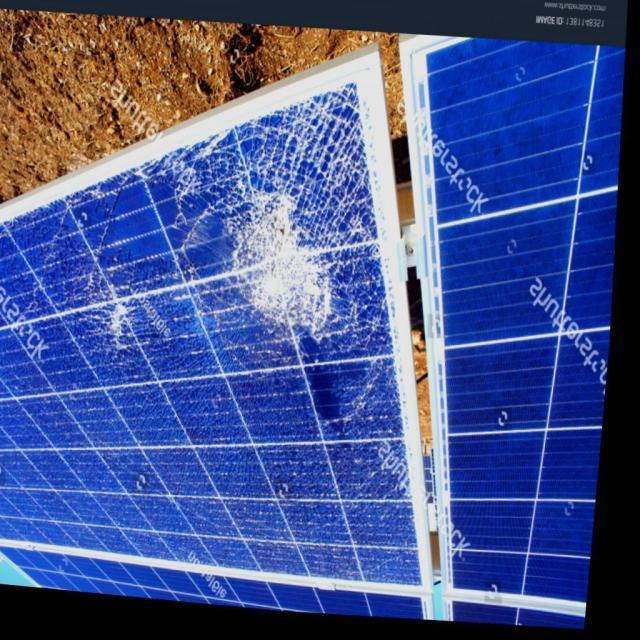cracked: (0, 51, 421, 542)
